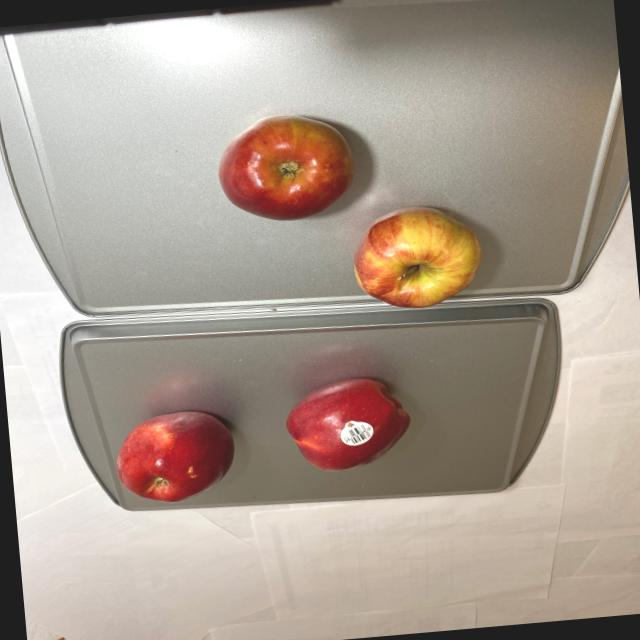apple: (207, 96, 491, 324), (102, 366, 422, 508)
